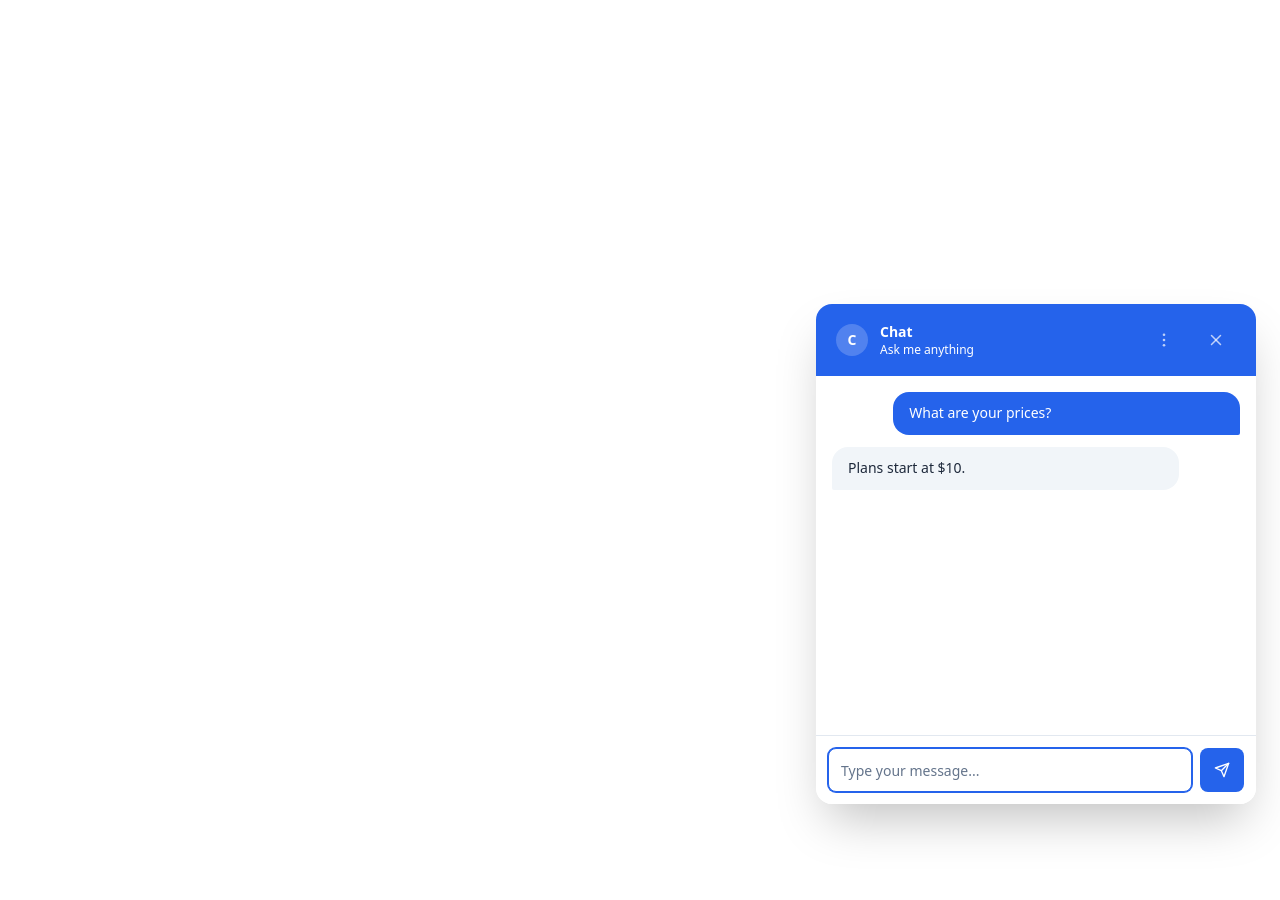
Scenario: ChatWindow conversation export › offers the three actions
Step 1. Click the button named "More options" → (1164, 340), box [1144, 320, 1184, 360]
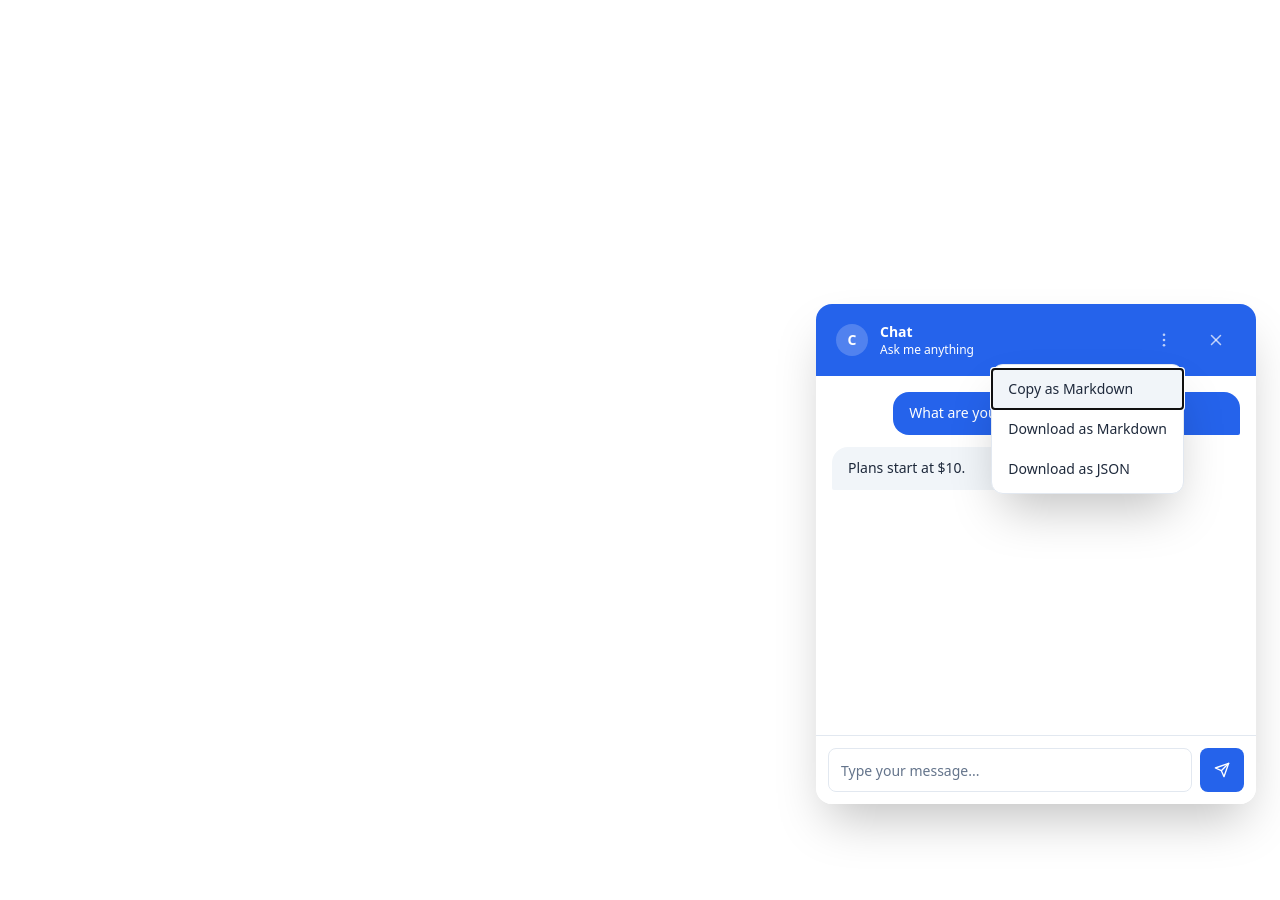
Expected: the menu items read "Copy as Markdown", "Download as Markdown", "Download as JSON", in this order, [992, 369, 1183, 409]; [992, 409, 1183, 449]; [992, 449, 1183, 489]
